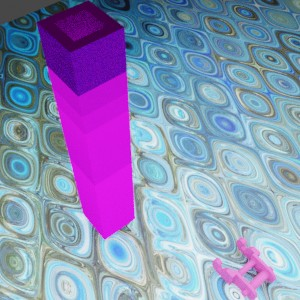lego: (36, 0, 135, 240), (211, 237, 276, 300)
